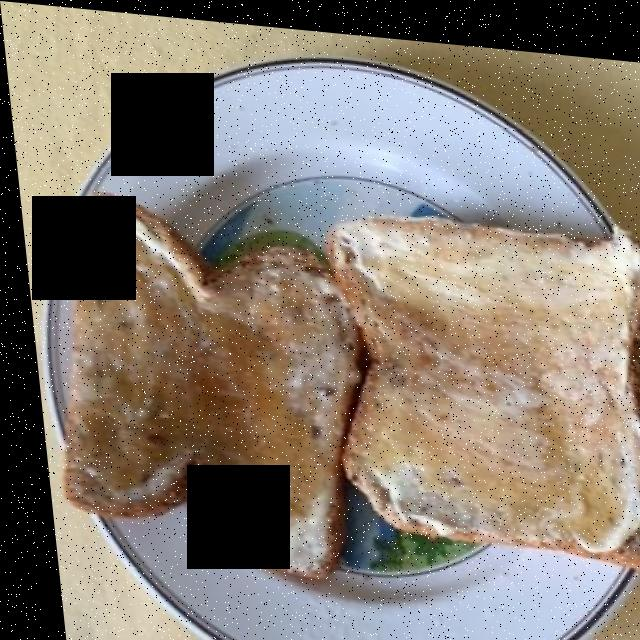bread-toast: (58, 206, 640, 570)
honey: (92, 248, 612, 524)
